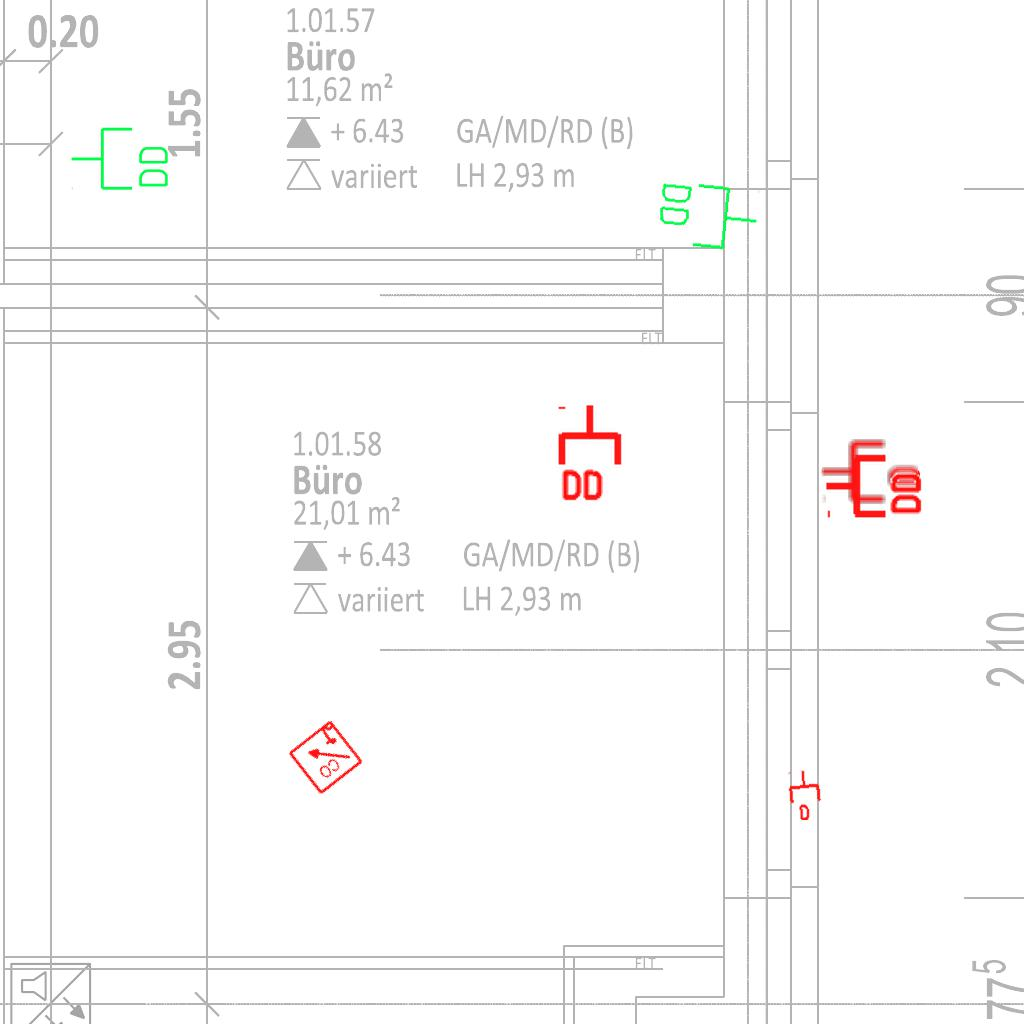Datenanschluss_einfach: (820, 437, 920, 506), (785, 768, 825, 822)
Datenanschluss_zweifach: (652, 175, 763, 256), (557, 402, 626, 505), (69, 125, 172, 194), (823, 450, 926, 519)
ROA_Rauchmelder_optisch_mit_Signalgeber_(Sockelsirene): (285, 717, 365, 797)
